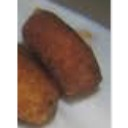cutlet: (25, 7, 102, 91), (17, 47, 58, 126)
